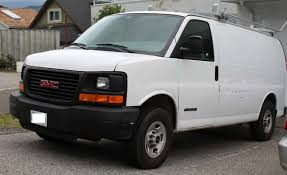van: (9, 11, 286, 171)
